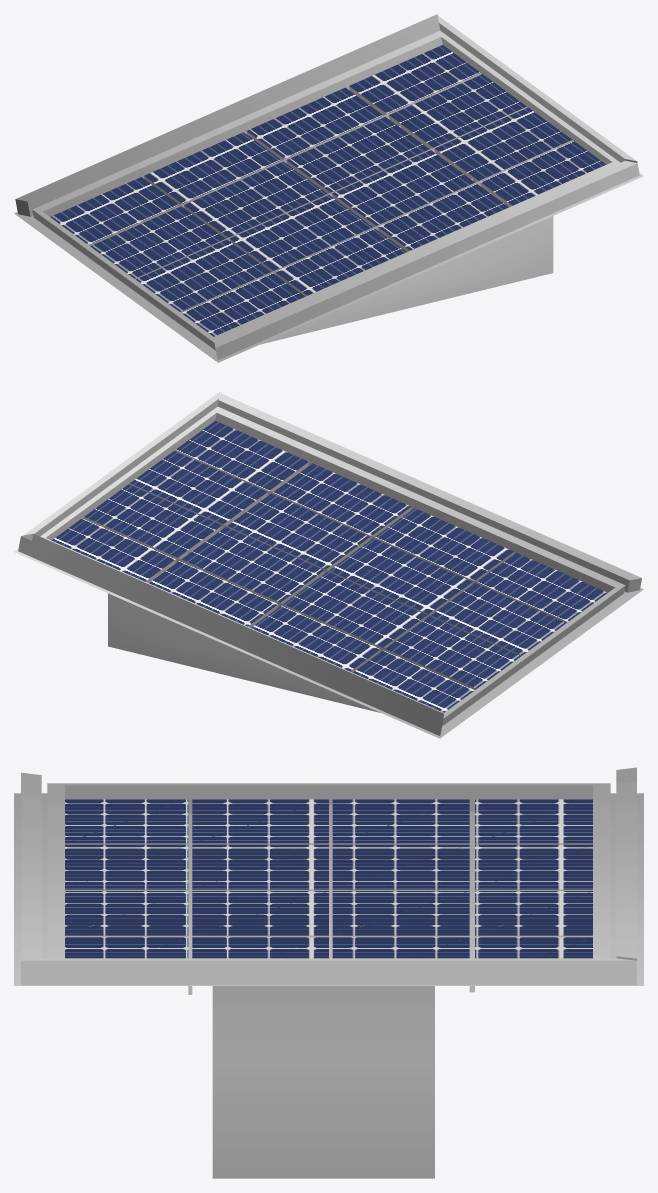
File: panel_solar.fbx
3 renders of one model, top to bottom at view 1: azimuth 30°, elevation 25°; view 2: azimuth 150°, elevation 25°; view 3: azimuth 270°, elevation 25°, orthographic. The views are drawn at different scales.
Parts seen in each view (by area): view 1: Cube.001; view 2: Cube.001; view 3: Cube.001.
Boxes of the visible parts, bbox=[...] form: Cube.001: bbox=[14, 14, 643, 362]; Cube.001: bbox=[14, 391, 643, 738]; Cube.001: bbox=[14, 767, 643, 1178].
Bounding box in the file's own units: 684 × 234 × 566.
2 materials, 2 textured.
